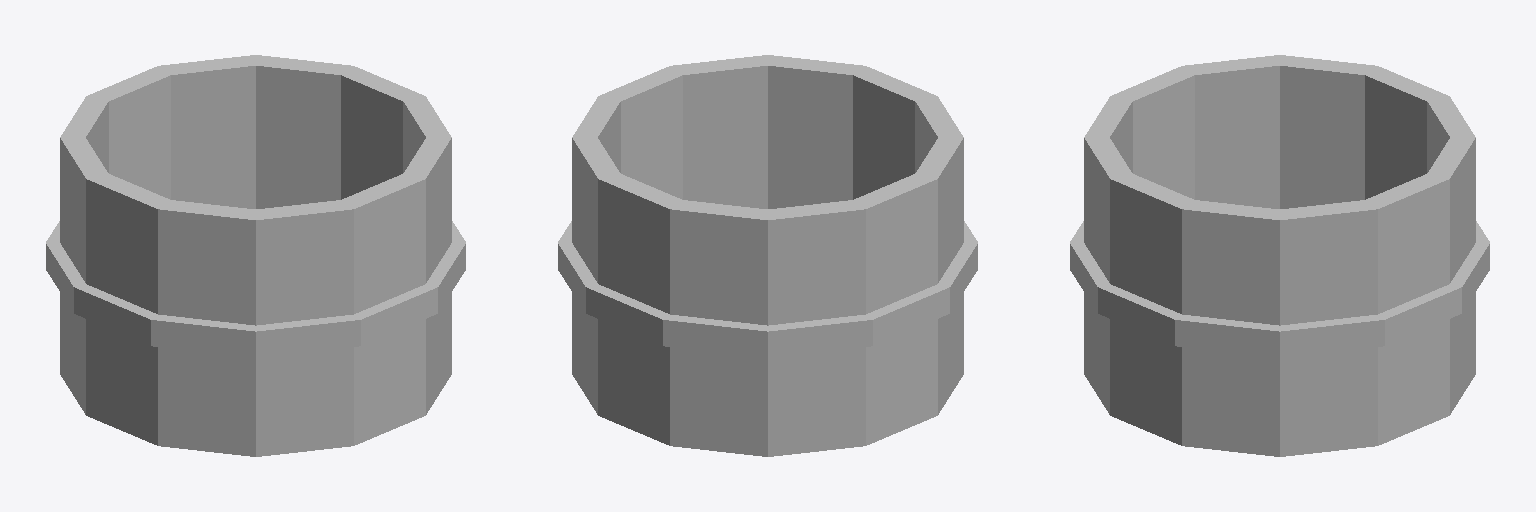
File: player_transport_tube.obj
The picture shows the model from 3 angles: view 1: azimuth 30°, elevation 25°; view 2: azimuth 150°, elevation 25°; view 3: azimuth 270°, elevation 25°; orthographic projection.
Parts seen in each view (by area): view 1: Cylinder_Cylinder.002, Cylinder.001_Cylinder.003; view 2: Cylinder_Cylinder.002, Cylinder.001_Cylinder.003; view 3: Cylinder_Cylinder.002, Cylinder.001_Cylinder.003.
Boxes of the visible parts, box(x1,y1,x2,y2) form: Cylinder_Cylinder.002: box(60, 55, 451, 456); Cylinder.001_Cylinder.003: box(46, 221, 465, 357); Cylinder_Cylinder.002: box(572, 55, 963, 456); Cylinder.001_Cylinder.003: box(558, 221, 977, 357); Cylinder_Cylinder.002: box(1084, 55, 1475, 456); Cylinder.001_Cylinder.003: box(1070, 221, 1489, 357).
Bounding box in the file's own units: 1.68 × 1.04 × 1.68.